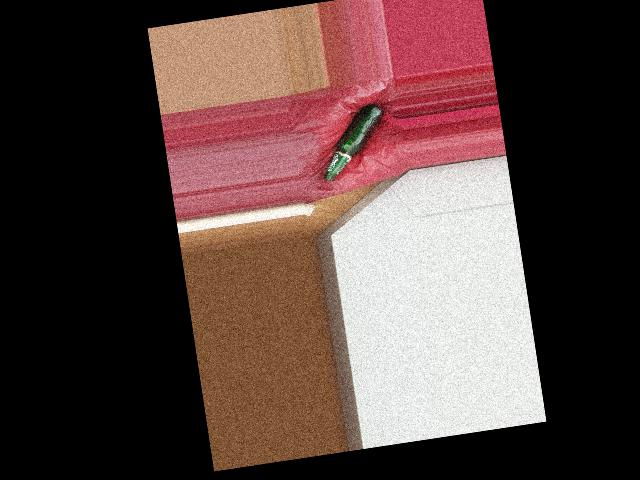beer: (313, 102, 391, 182)
